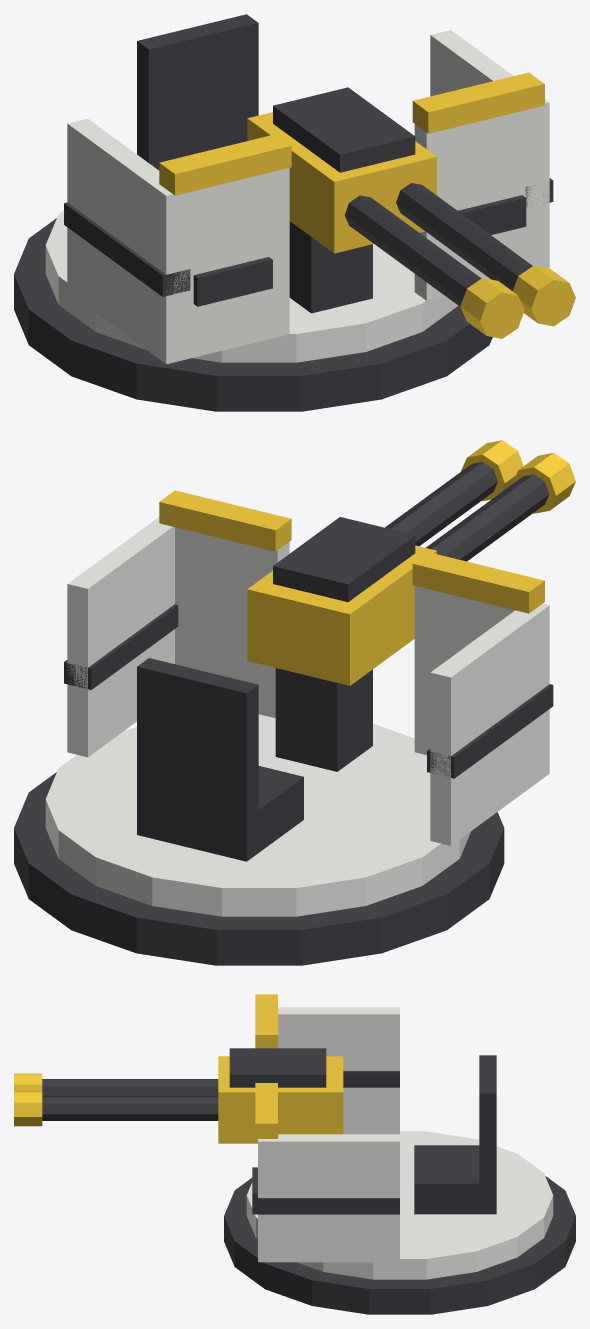
The model's file is TurretSeat.fbx.
3 renders of one model, top to bottom at view 1: azimuth 30°, elevation 25°; view 2: azimuth 150°, elevation 25°; view 3: azimuth 270°, elevation 25°, orthographic. The views are drawn at different scales.
Parts seen in each view (by area): view 1: TurretSeat; view 2: TurretSeat; view 3: TurretSeat.
Boxes of the visible parts, <box> form: TurretSeat: <box>14,14,575,411</box>; TurretSeat: <box>14,440,575,965</box>; TurretSeat: <box>14,994,575,1314</box>.
Size of the model in its own units: 1.22 by 0.71 by 1.98.
